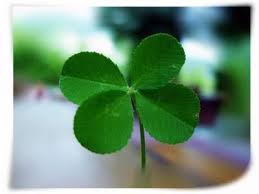4-clover: (60, 32, 199, 155)
